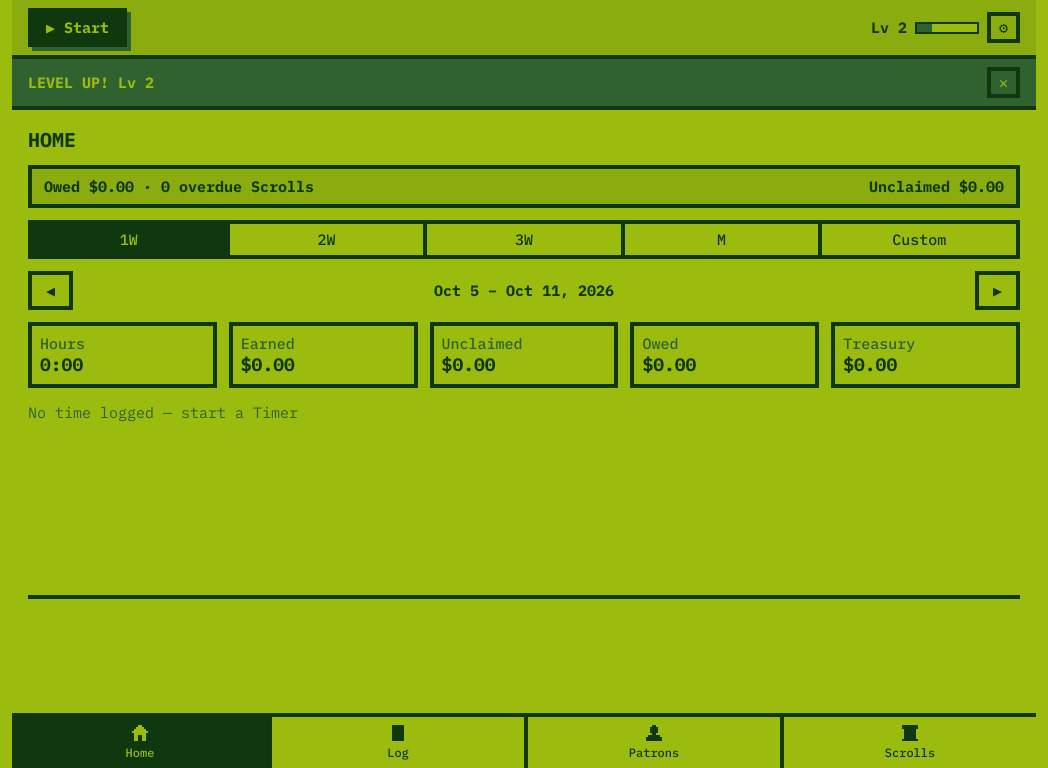
Test: level-up banner › shows a new highest Level once, acknowledges it and dismisses
This screenshot has width=1048, height=768.
Expected: the message shows "LEVEL UP! Lv 2", 12,59 -> 1036,110
Click the button named "Dismiss" at coordinates (1004, 82), box 987,67 -> 1020,98
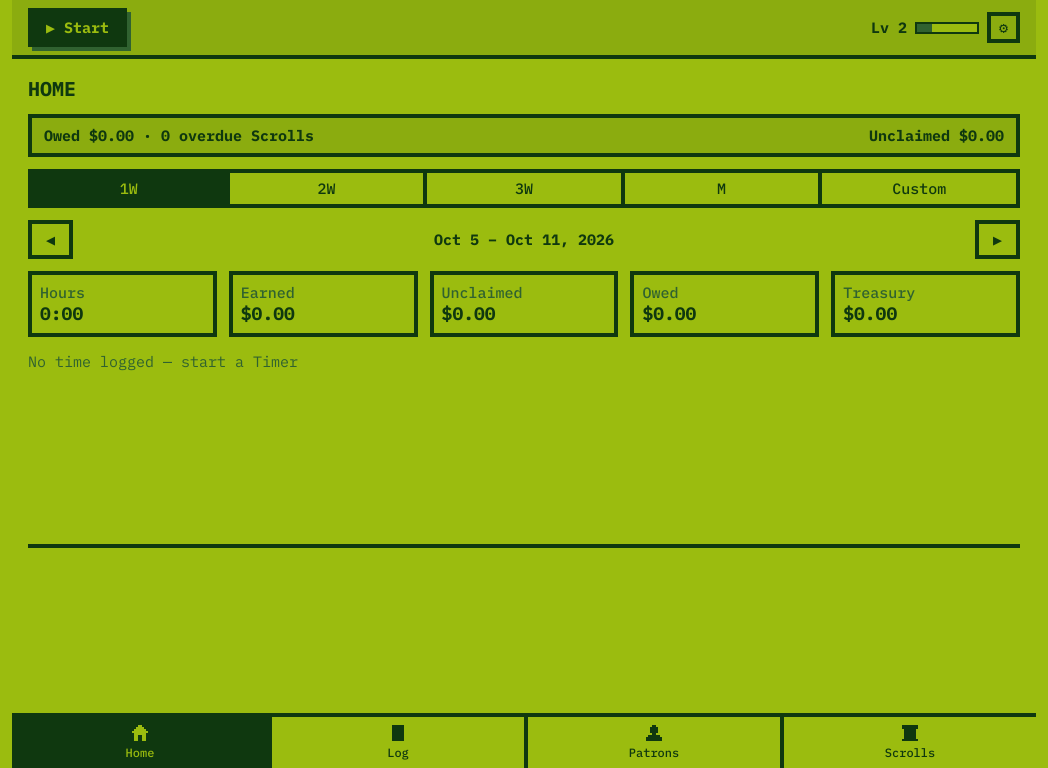
Expected: the message "LEVEL UP! Lv 2 ✕" is gone
